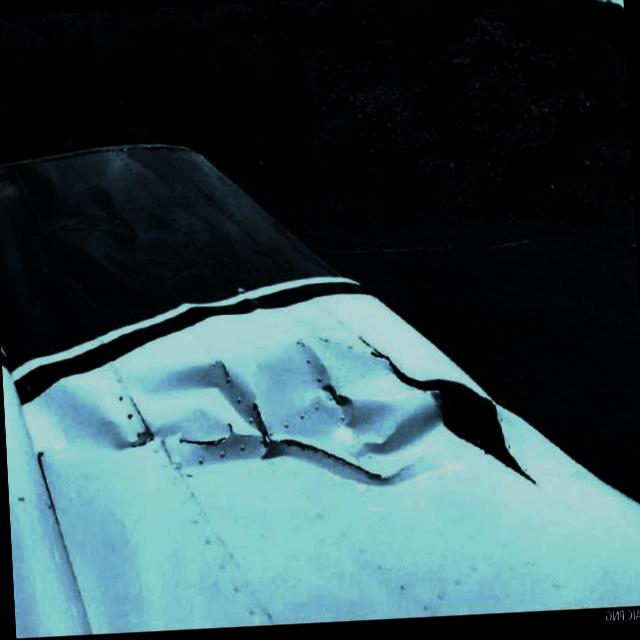crack: (280, 441, 372, 494), (171, 430, 230, 458), (252, 403, 274, 442), (214, 360, 230, 390)
